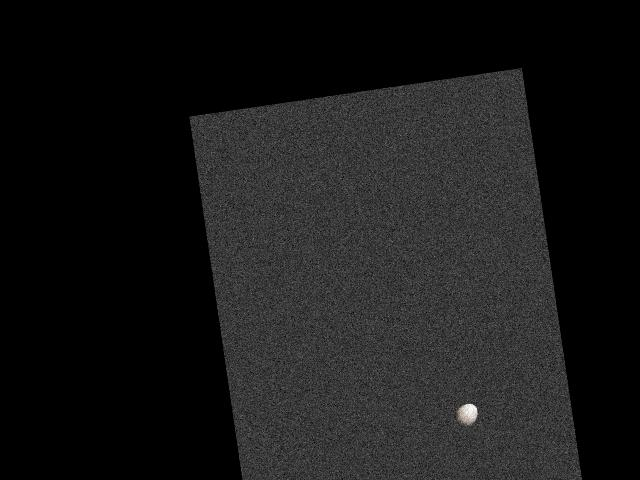egg: (453, 402, 479, 429)
